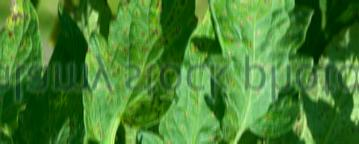Tomato Septoria leaf spot: (77, 0, 205, 144), (213, 0, 322, 144), (262, 24, 359, 144), (150, 35, 228, 144), (0, 0, 44, 136)
